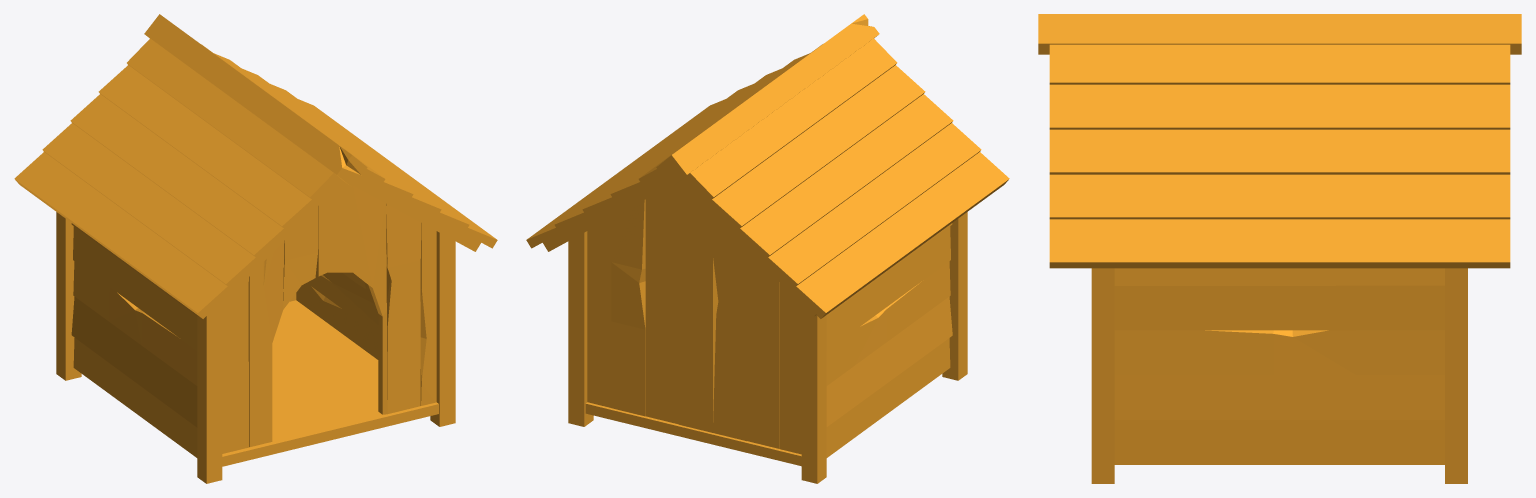
Rendered from SM_Dog_House_A.fbx.
3 renders of one model, left to right at view 1: azimuth 30°, elevation 25°; view 2: azimuth 150°, elevation 25°; view 3: azimuth 270°, elevation 25°, orthographic. The views are drawn at different scales.
Parts seen in each view (by area): view 1: dog-house-a; view 2: dog-house-a; view 3: dog-house-a.
Boxes of the visible parts, bbox=[...] form: dog-house-a: bbox=[14, 14, 497, 483]; dog-house-a: bbox=[526, 14, 1009, 483]; dog-house-a: bbox=[1038, 14, 1521, 483].
Bounding box in the file's own units: 1.19 × 1.2 × 1.33.
